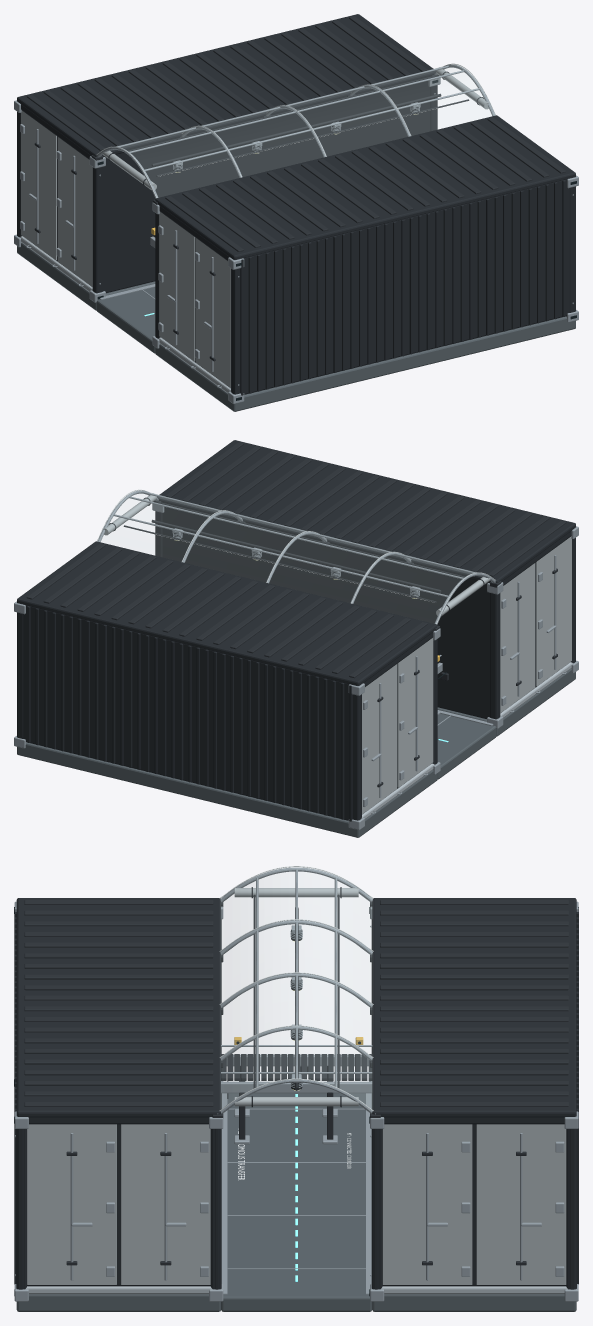
The model's file is microfactory.glb.
3 views of the same model, one above another, from view 1: azimuth 30°, elevation 25°; view 2: azimuth 150°, elevation 25°; view 3: azimuth 270°, elevation 25° (orthographic). The views are drawn at different scales.
Visible parts, largest first — view 1: CONTAINER_A / Graphite powder-coated steel, CONTAINER_B / Graphite powder-coated steel.001, CANOPY_01 / V2 translucent canopy inspection membrane, CONTAINER_A / V2 graphite structural steel.001, CONTAINER_B / V2 graphite structural steel.001, CONTAINER_B / V2 ceramic silver enclosure, CONTAINER_A / V2 ceramic silver enclosure, CONTAINER_A / Anti-slip graphite, CANOPY_01 / V2 satin machined aluminum, CONTAINER_A / Graphite powder-coated steel.001, CONTAINER_B / Graphite powder-coated steel, TRANSFER_PATH / Anti-slip graphite (+10 smaller); view 2: CONTAINER_B / Graphite powder-coated steel, CONTAINER_A / Graphite powder-coated steel, CONTAINER_B / Graphite powder-coated steel.001, CANOPY_01 / V2 translucent canopy inspection membrane, CONTAINER_B / V2 graphite structural steel.001, CONTAINER_A / V2 graphite structural steel.001, CONTAINER_A / V2 ceramic silver enclosure, CONTAINER_B / V2 ceramic silver enclosure, CONTAINER_B / Anti-slip graphite, CANOPY_01 / V2 satin machined aluminum, TRANSFER_PATH / Anti-slip graphite, CONTAINER_A / Graphite powder-coated steel.001 (+11 smaller); view 3: CONTAINER_A / Graphite powder-coated steel, CANOPY_01 / V2 translucent canopy inspection membrane, CONTAINER_B / Graphite powder-coated steel.001, TRANSFER_PATH / Anti-slip graphite, CONTAINER_B / V2 ceramic silver enclosure, CONTAINER_A / V2 ceramic silver enclosure, CONTAINER_A / V2 graphite structural steel.001, CONTAINER_B / V2 graphite structural steel.001, CONTAINER_B / Graphite powder-coated steel, CANOPY_01 / V2 satin machined aluminum, CONTAINER_A / Graphite powder-coated steel.001, CONTAINER_B / Anti-slip graphite (+14 smaller).
Boxes of the visible parts, <box> form: CONTAINER_A / Graphite powder-coated steel: <box>155,115,575,395</box>; CONTAINER_B / Graphite powder-coated steel.001: <box>17,14,435,292</box>; CANOPY_01 / V2 translucent canopy inspection membrane: <box>116,65,494,197</box>; CONTAINER_A / V2 graphite structural steel.001: <box>165,117,565,361</box>; CONTAINER_B / V2 graphite structural steel.001: <box>26,16,427,259</box>; CONTAINER_B / V2 ceramic silver enclosure: <box>21,110,92,286</box>; CONTAINER_A / V2 ceramic silver enclosure: <box>159,212,230,388</box>; CONTAINER_A / Anti-slip graphite: <box>155,316,575,411</box>; CANOPY_01 / V2 satin machined aluminum: <box>97,64,495,198</box>; CONTAINER_A / Graphite powder-coated steel.001: <box>155,177,575,394</box>; CONTAINER_B / Graphite powder-coated steel: <box>17,85,437,293</box>; TRANSFER_PATH / Anti-slip graphite: <box>96,287,155,353</box>; CONTAINER_B / Graphite powder-coated steel: <box>17,603,437,821</box>; CONTAINER_A / Graphite powder-coated steel: <box>157,440,575,718</box>; CONTAINER_B / Graphite powder-coated steel.001: <box>17,541,437,797</box>; CANOPY_01 / V2 translucent canopy inspection membrane: <box>98,491,476,623</box>; CONTAINER_B / V2 graphite structural steel.001: <box>26,543,427,787</box>; CONTAINER_A / V2 graphite structural steel.001: <box>165,442,566,685</box>; CONTAINER_A / V2 ceramic silver enclosure: <box>500,536,571,712</box>; CONTAINER_B / V2 ceramic silver enclosure: <box>362,638,433,814</box>; CONTAINER_B / Anti-slip graphite: <box>17,742,437,837</box>; CANOPY_01 / V2 satin machined aluminum: <box>97,490,495,624</box>; TRANSFER_PATH / Anti-slip graphite: <box>437,713,496,779</box>; CONTAINER_A / Graphite powder-coated steel.001: <box>155,511,573,719</box>; CONTAINER_A / Graphite powder-coated steel: <box>14,898,220,1289</box>; CANOPY_01 / V2 translucent canopy inspection membrane: <box>220,867,372,1109</box>; CONTAINER_B / Graphite powder-coated steel.001: <box>372,898,576,1289</box>; TRANSFER_PATH / Anti-slip graphite: <box>221,1093,372,1311</box>; CONTAINER_B / V2 ceramic silver enclosure: <box>382,1124,566,1284</box>; CONTAINER_A / V2 ceramic silver enclosure: <box>27,1124,210,1284</box>; CONTAINER_A / V2 graphite structural steel.001: <box>24,900,213,1265</box>; CONTAINER_B / V2 graphite structural steel.001: <box>380,900,568,1265</box>; CONTAINER_B / Graphite powder-coated steel: <box>371,907,578,1289</box>; CANOPY_01 / V2 satin machined aluminum: <box>217,867,375,1114</box>; CONTAINER_A / Graphite powder-coated steel.001: <box>16,919,221,1289</box>; CONTAINER_B / Anti-slip graphite: <box>372,1294,576,1311</box>.
Size of the model in its own units: 6.14 by 3.06 by 6.74.
